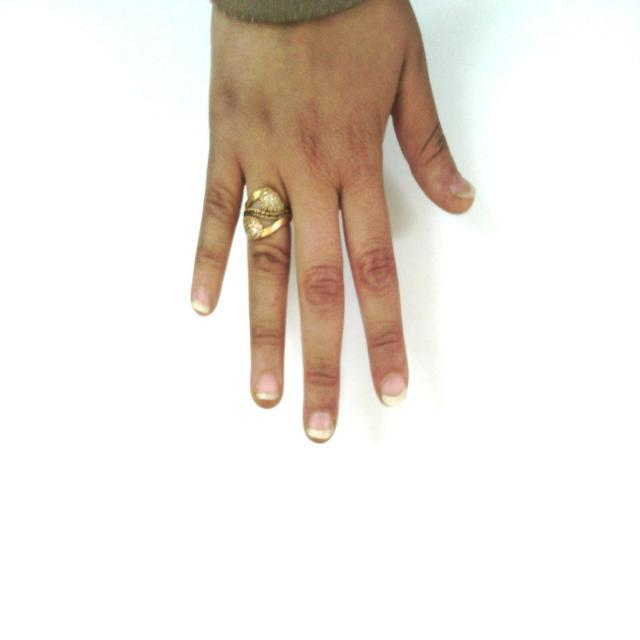Fingernail: (381, 373, 407, 406), (308, 411, 334, 439), (256, 372, 280, 400), (448, 174, 476, 198), (193, 289, 210, 314)
